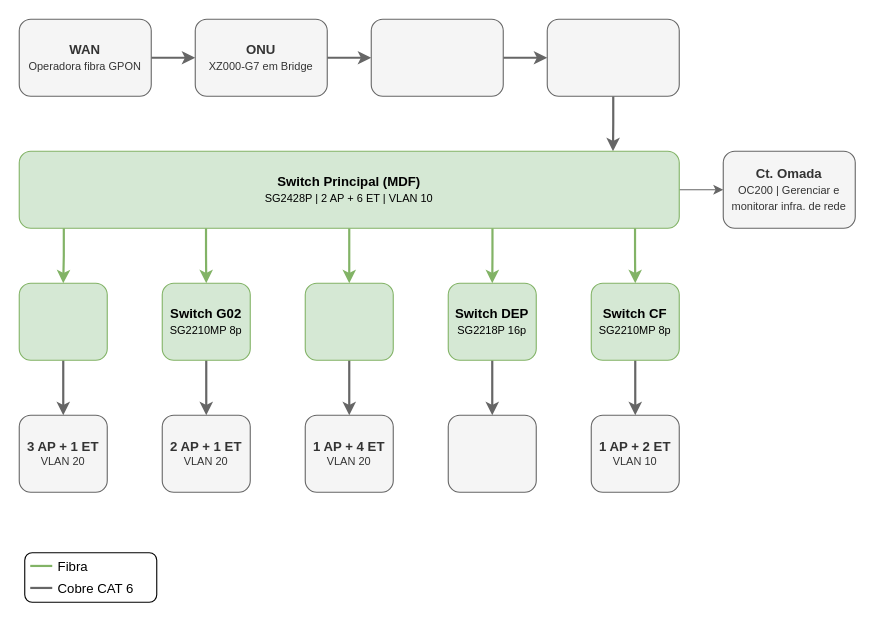
This 875x627 diagram has some shape labels left out. Here are the shapes that lost their labels. From the top down, the centre of each, then its label:
point 436,57: Roteador ER7206 | NAT | DHCP | VLANs
point 612,57: Firewall pfSense em Bridge | Filtro entre VLANs
point 62,321: Switch G01 SG2218P 16p
point 348,321: Switch SLO SG2218P 16p
point 491,453: 1 AP + 5 ET VLAN 20
